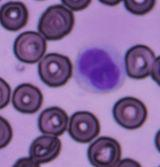M: (72, 44, 126, 94)
